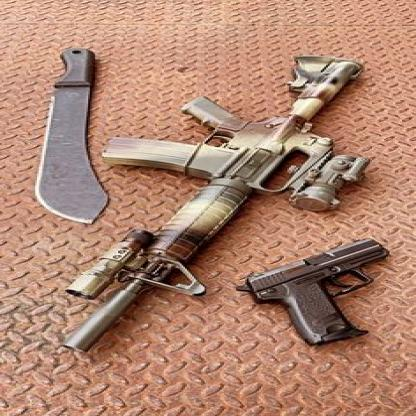Gun: (59, 53, 368, 355)
Knife: (34, 46, 111, 227)
Pistol: (234, 239, 393, 347)
